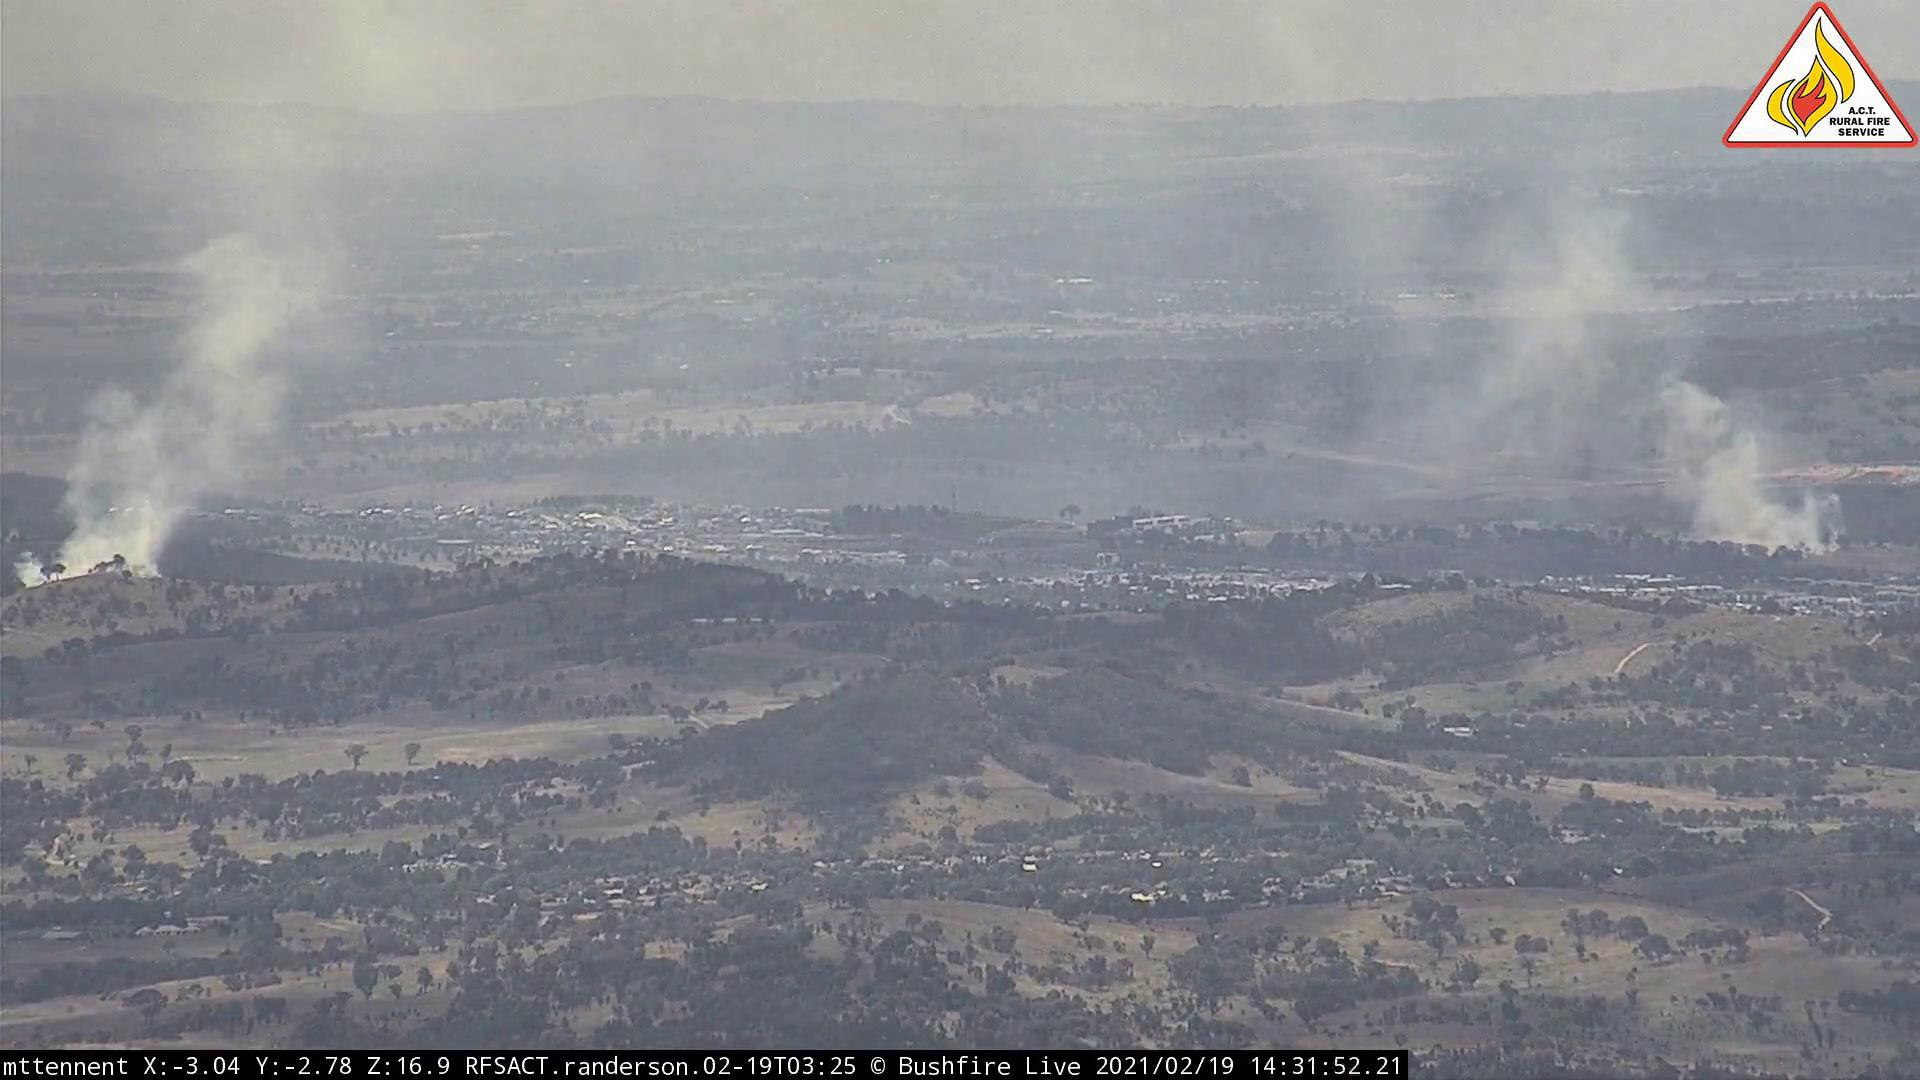Smoke: (1313, 187, 1863, 566), (13, 195, 415, 599)
